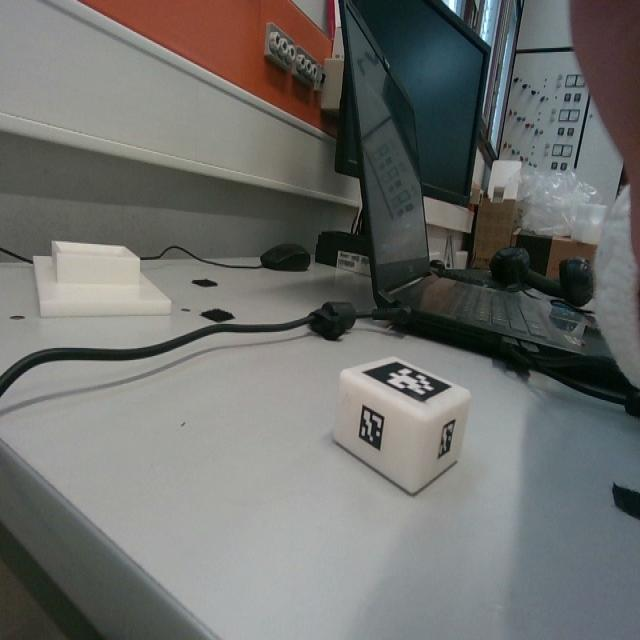Cube: (336, 355, 470, 493)
